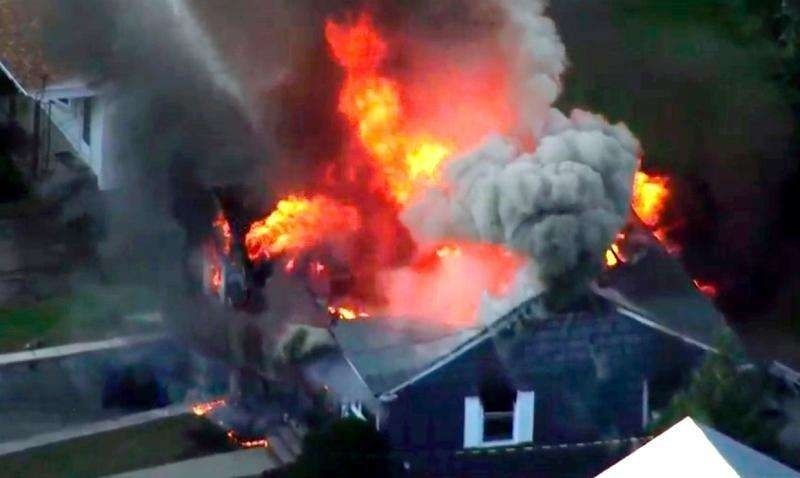fire: (224, 12, 514, 324), (630, 169, 671, 224)
